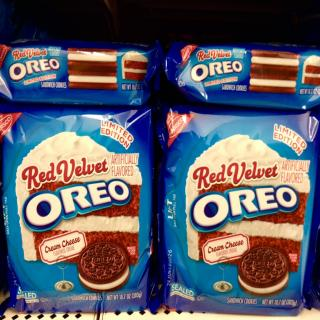Cookie: (237, 247, 290, 296), (74, 241, 128, 289), (248, 48, 300, 94), (67, 46, 118, 90)
